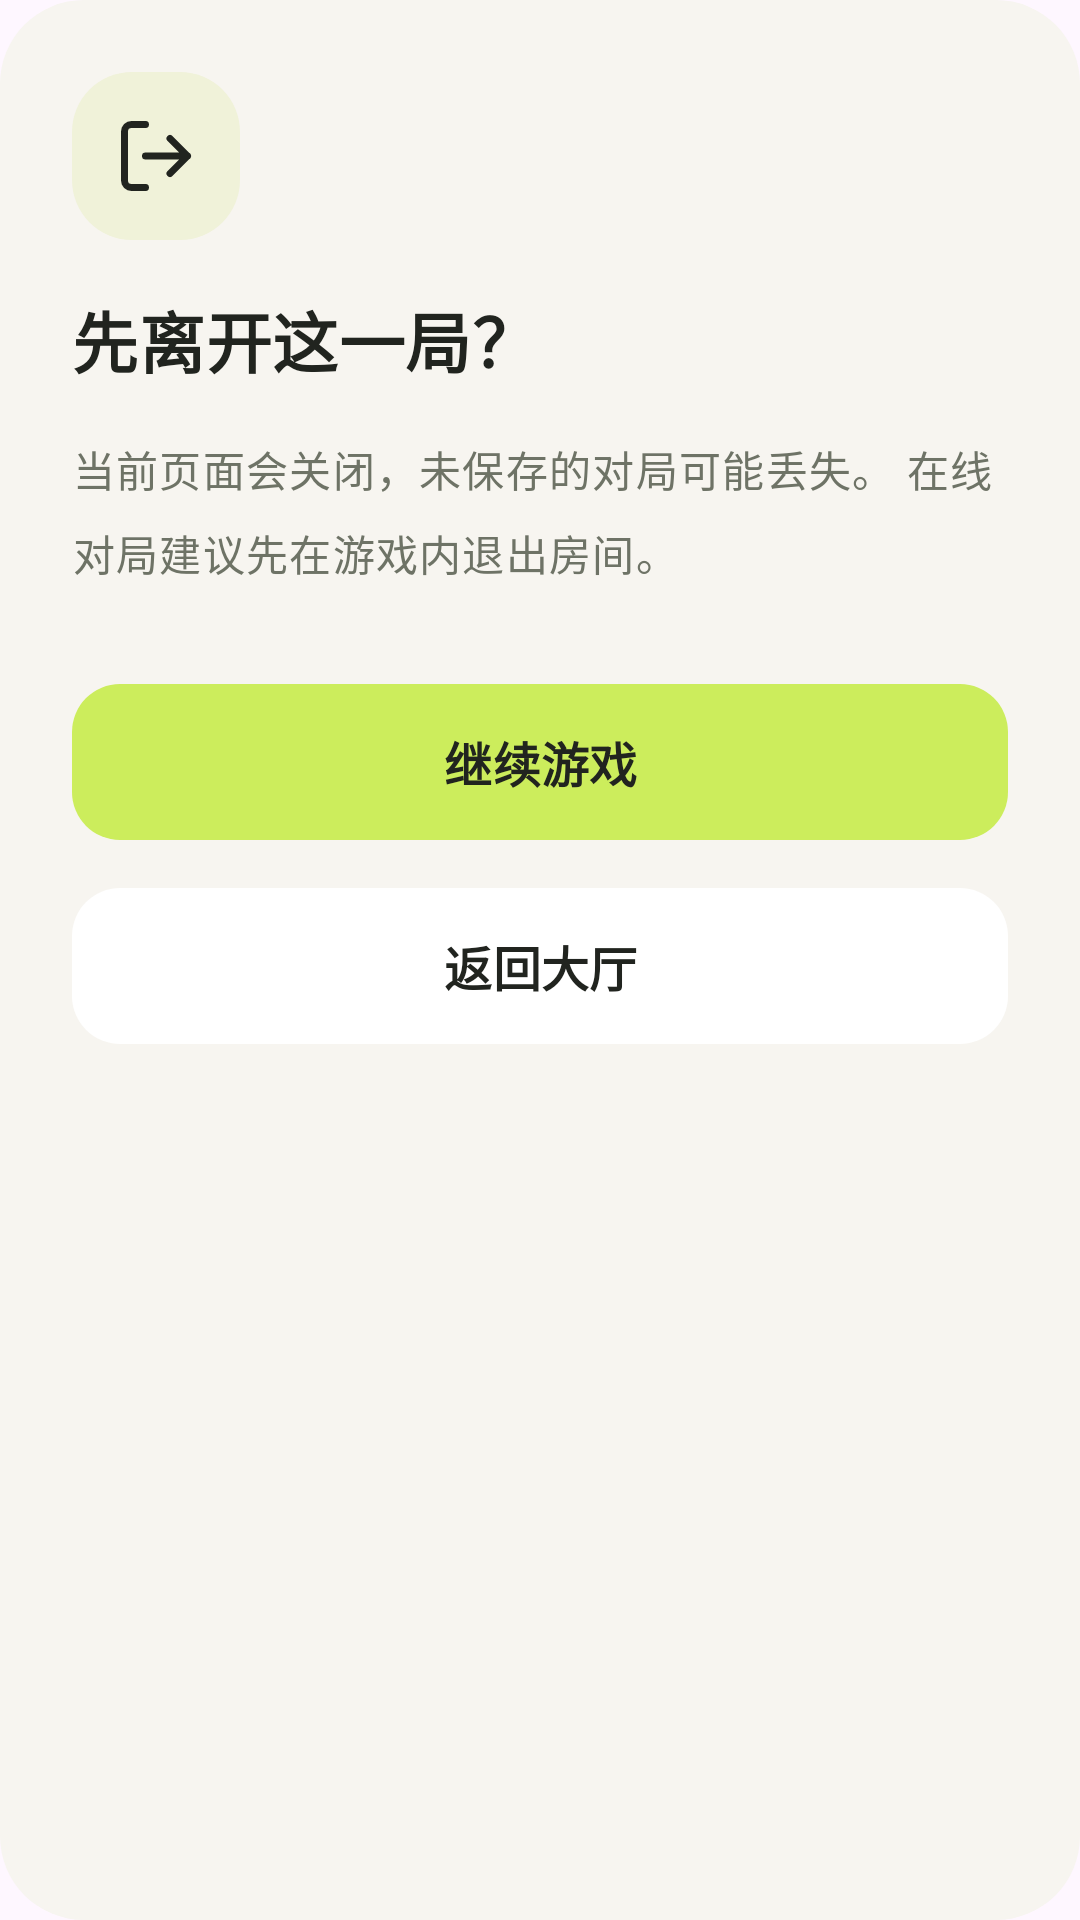

Named icons in this screenshot (1080px×1920px) and their centers, (x,y):
log out: (156,156)
